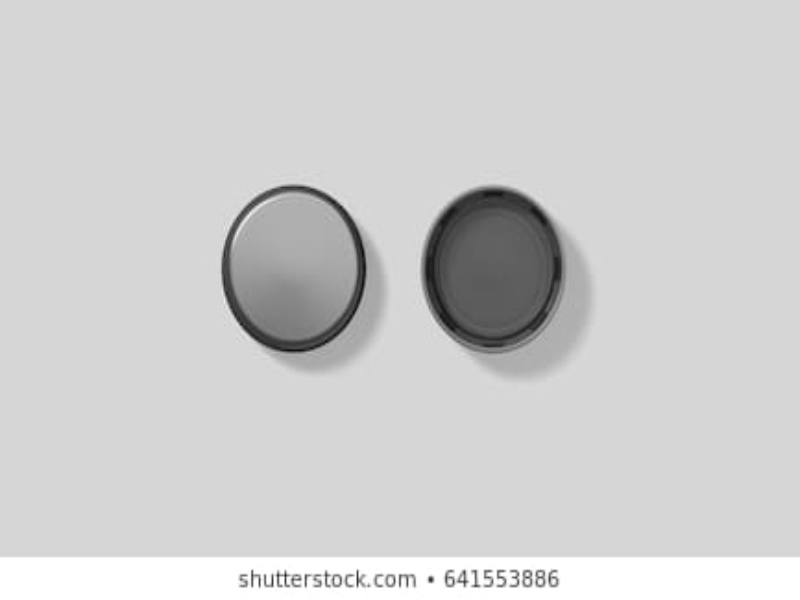bottle-cap: (209, 178, 371, 365), (414, 181, 572, 360)
